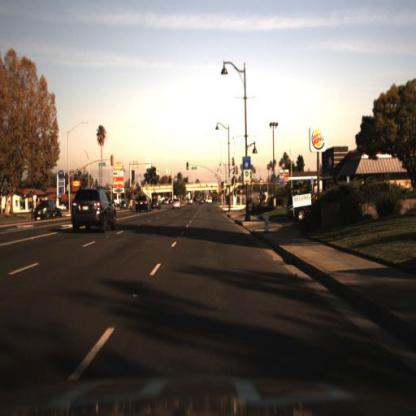car: (68, 181, 118, 241), (281, 192, 323, 226), (132, 193, 155, 219), (138, 195, 152, 215), (53, 203, 65, 221), (151, 193, 162, 212), (172, 194, 184, 210), (172, 199, 184, 213)
